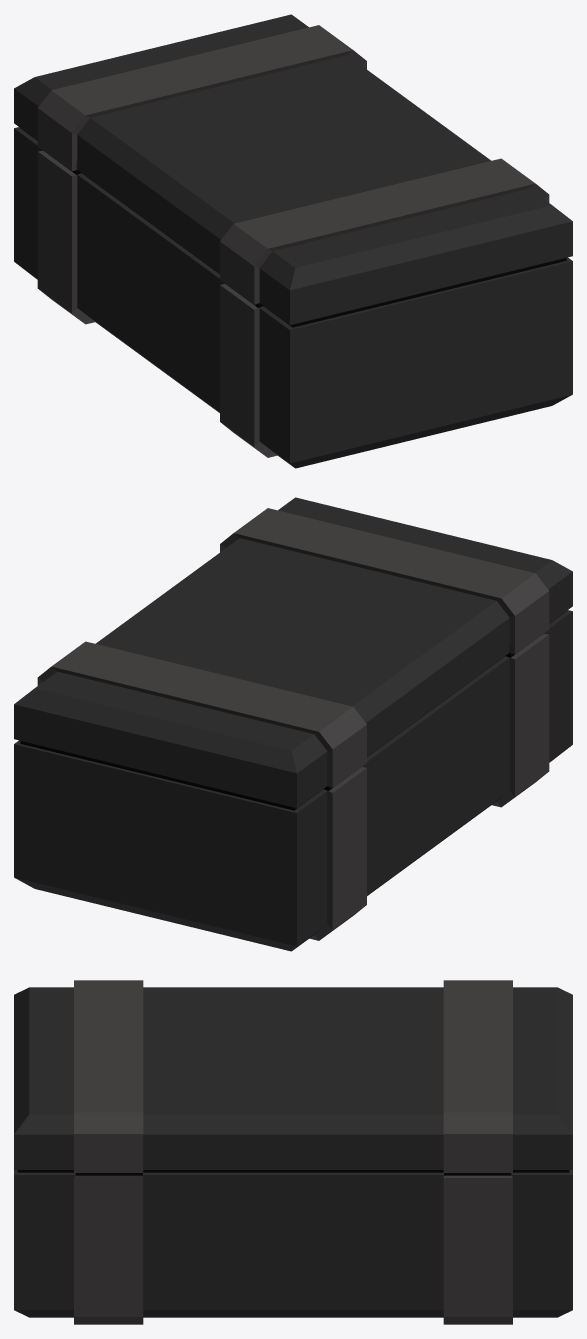
3 views of the same model, one above another, from view 1: azimuth 30°, elevation 25°; view 2: azimuth 150°, elevation 25°; view 3: azimuth 270°, elevation 25° (orthographic).
Visible parts, largest first — view 1: Lid, Box; view 2: Lid, Box; view 3: Lid, Box.
Boxes of the visible parts, left/top/right/bottom form: Lid: left=14, top=14, right=572, bottom=324; Box: left=14, top=127, right=572, bottom=468; Lid: left=14, top=497, right=572, bottom=807; Box: left=14, top=610, right=572, bottom=951; Lid: left=14, top=980, right=572, bottom=1172; Box: left=14, top=1170, right=572, bottom=1324.
Bounding box in the file's own units: 86.27 × 58.42 × 140.
1 material, 1 textured.
